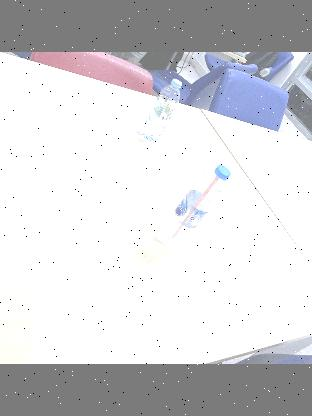Plastic Bottle: (156, 164, 230, 250), (138, 78, 182, 146)
